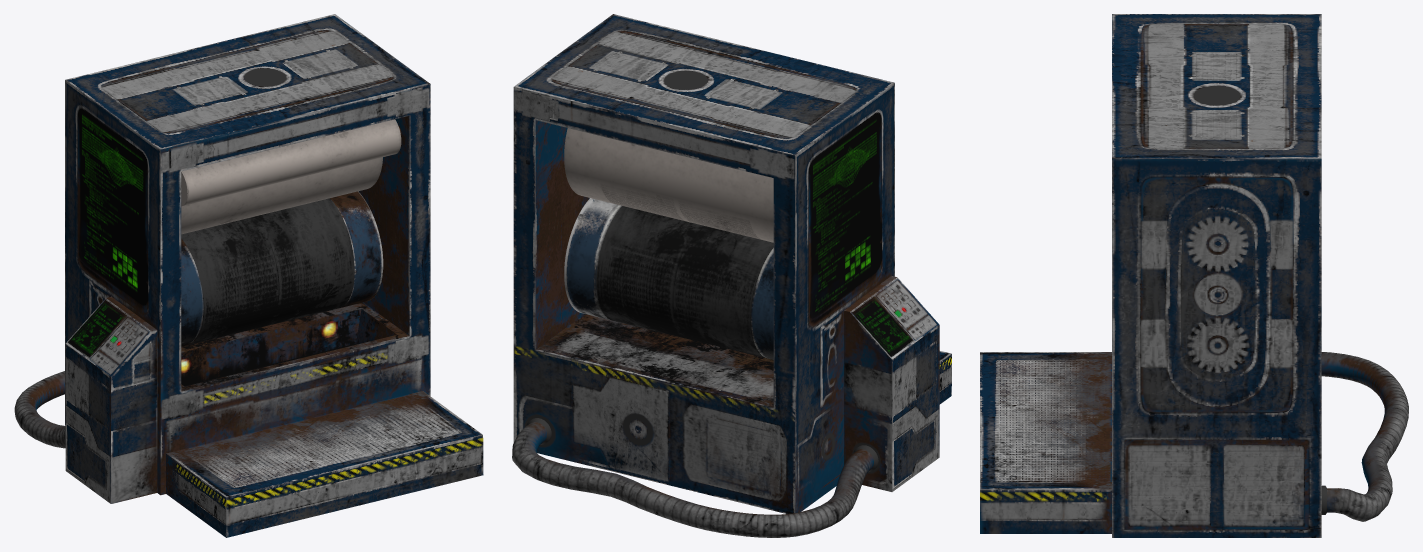
The model's file is tp2_binary_analogue_printer.glb.
3 views of the same model, side by side, from view 1: azimuth 30°, elevation 25°; view 2: azimuth 150°, elevation 25°; view 3: azimuth 270°, elevation 25° (orthographic). The views are drawn at different scales.
Parts seen in each view (by area): view 1: TP2_ObjetEtudiants_Machinerie_01:pCylinder10; view 2: TP2_ObjetEtudiants_Machinerie_01:pCylinder10; view 3: TP2_ObjetEtudiants_Machinerie_01:pCylinder10.
Part boxes in pixels (x1=…): TP2_ObjetEtudiants_Machinerie_01:pCylinder10: x1=14, y1=14, x2=483, y2=537; TP2_ObjetEtudiants_Machinerie_01:pCylinder10: x1=512, y1=14, x2=951, y2=537; TP2_ObjetEtudiants_Machinerie_01:pCylinder10: x1=980, y1=14, x2=1408, y2=537.
Size of the model in its own units: 31.97 by 33.38 by 34.21.
Materials: 1 (1 with a texture image).
